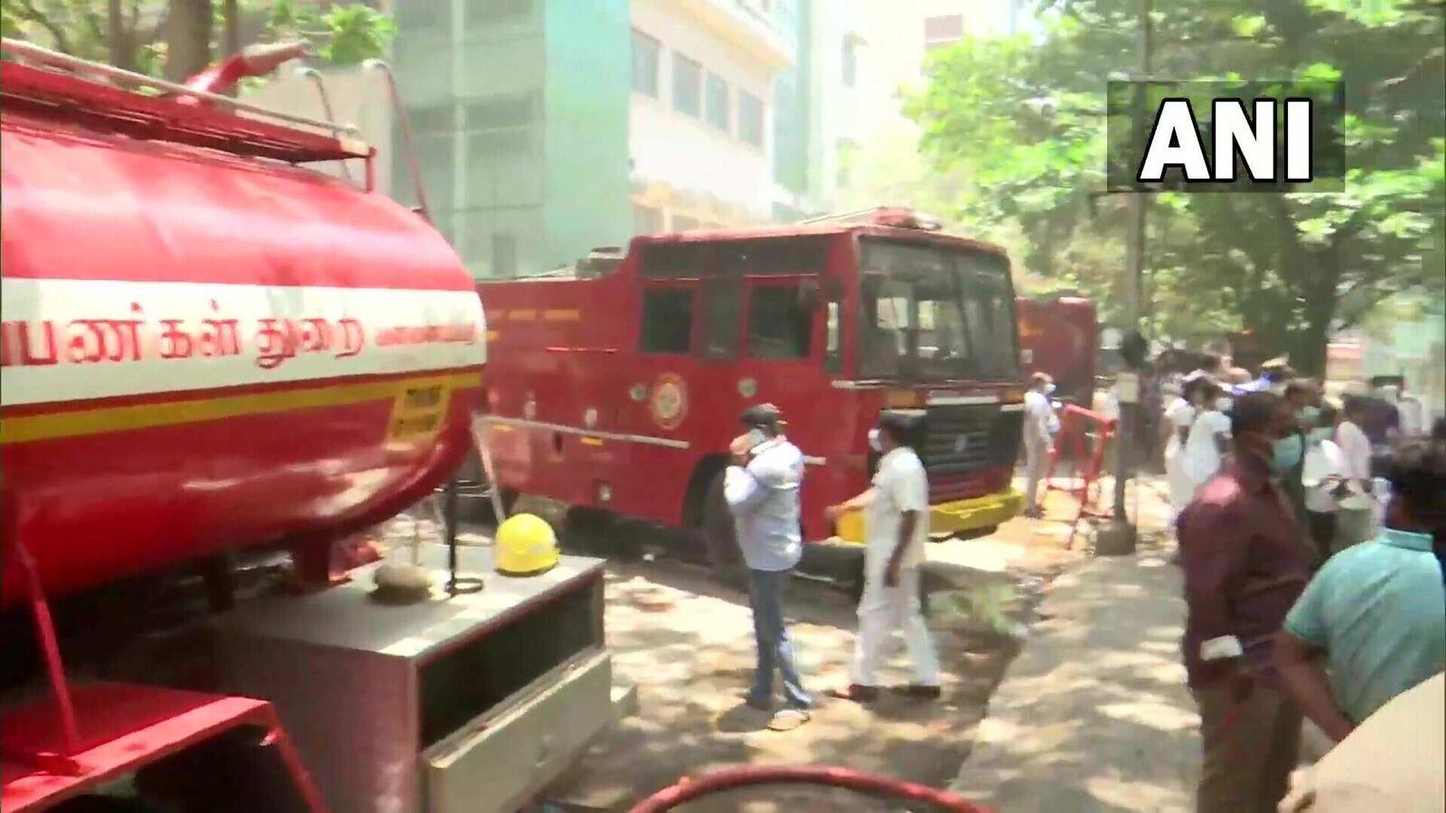Fire-engine: (0, 26, 613, 813), (477, 115, 1101, 576)
